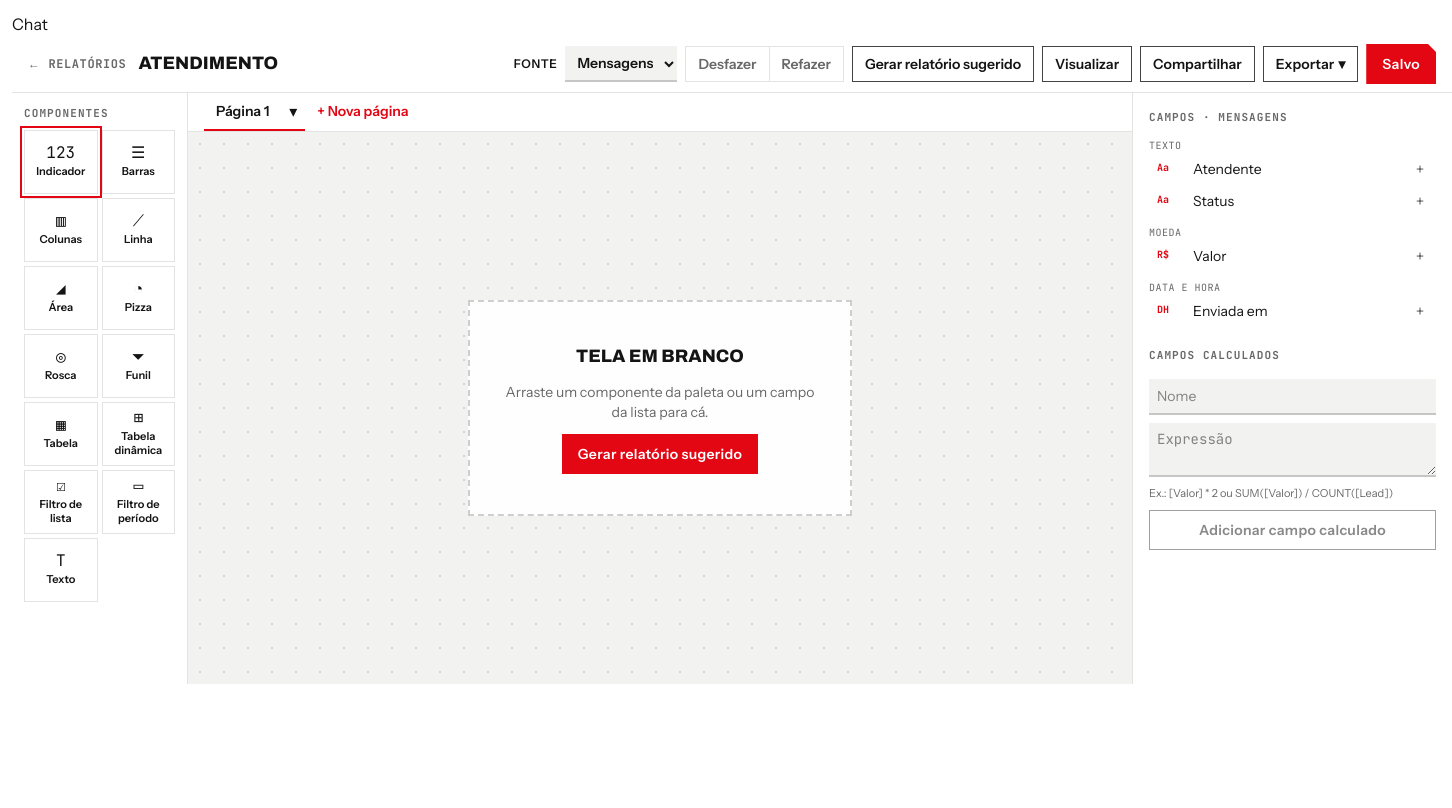
Test: ReportEditor › saves with PUT carrying the loaded version
The image size is (1452, 808).
Press Enter
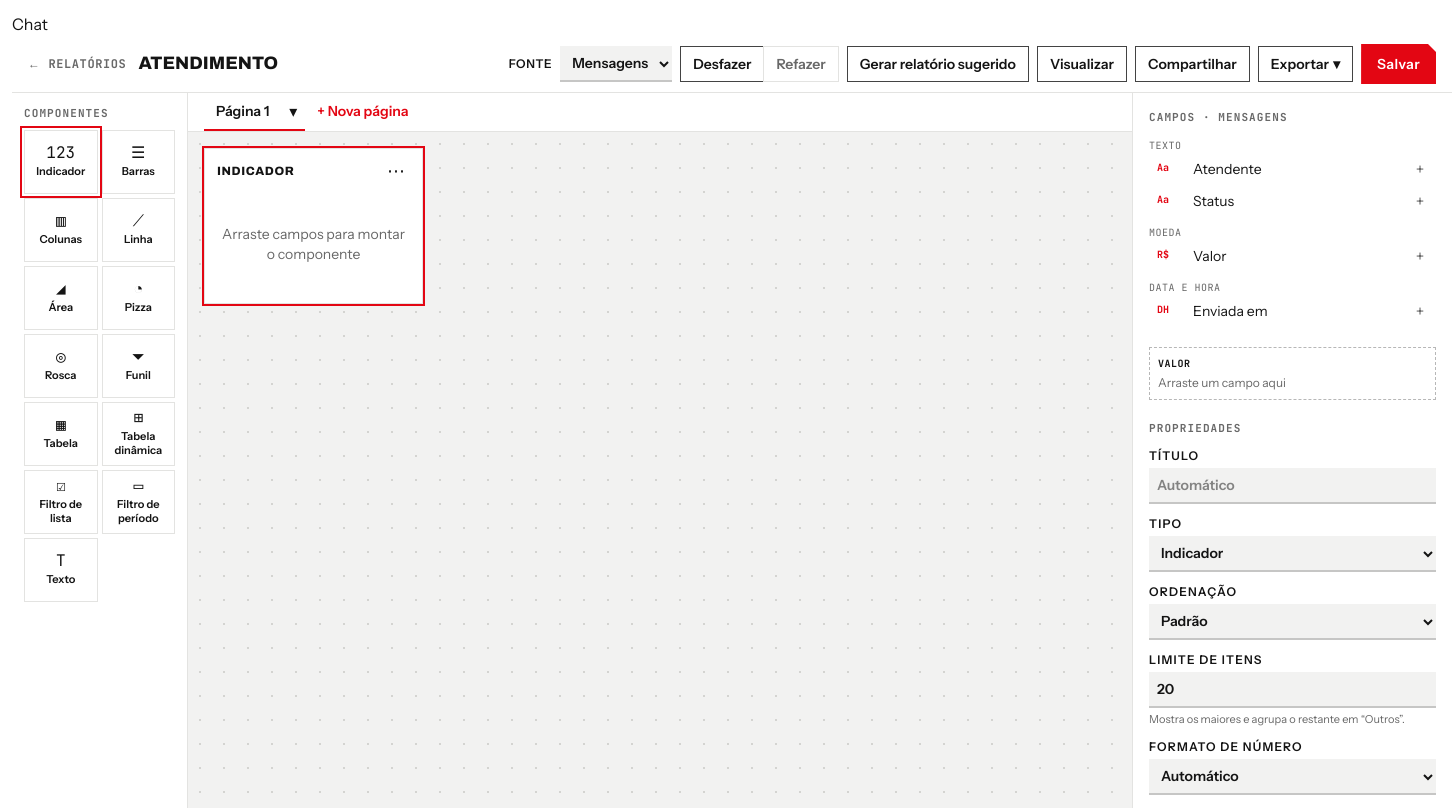
Click the button "Salvar".
click(1399, 64)  # box [1361,44,1436,84]
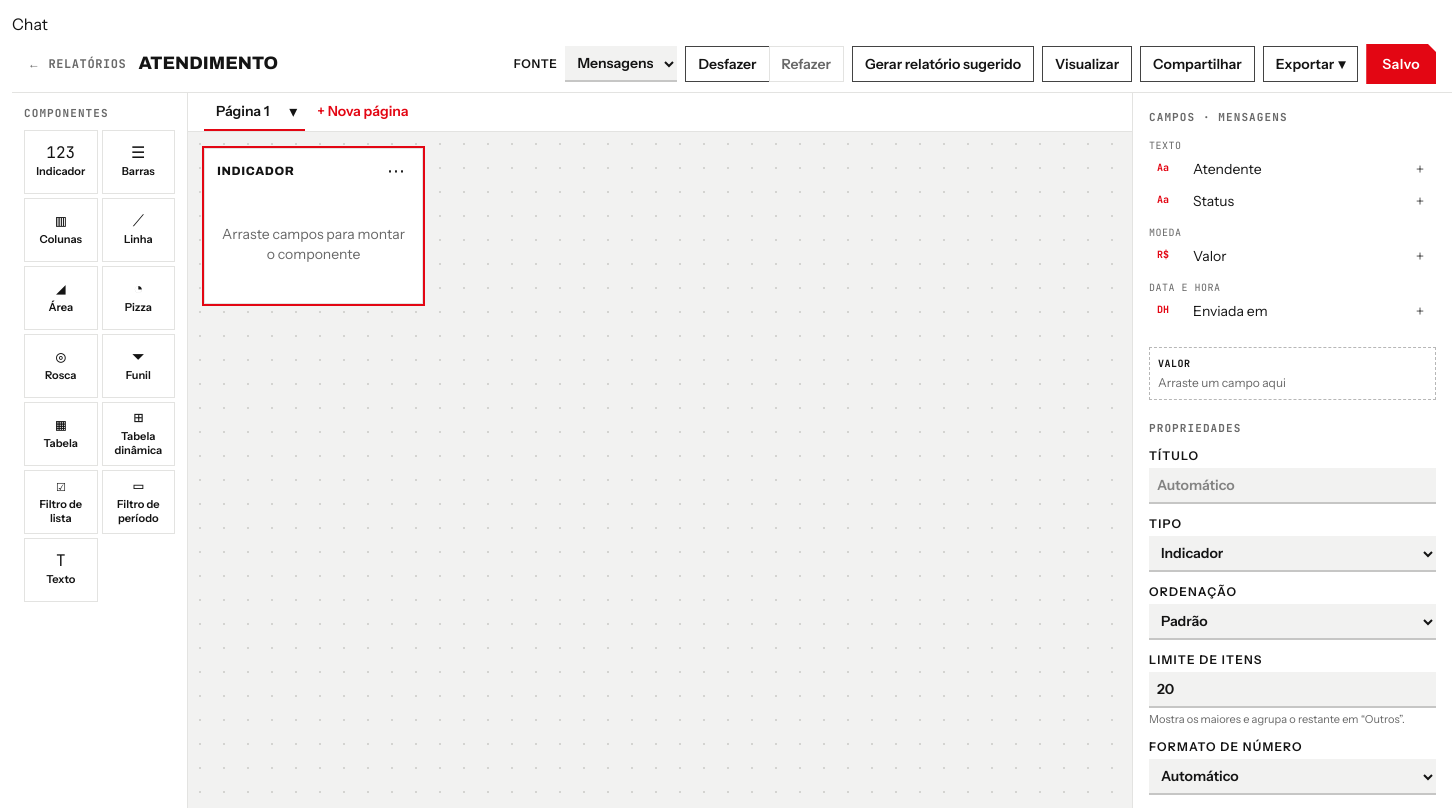
Now the button "Salvo" is shown, box [1366,44,1436,84]
